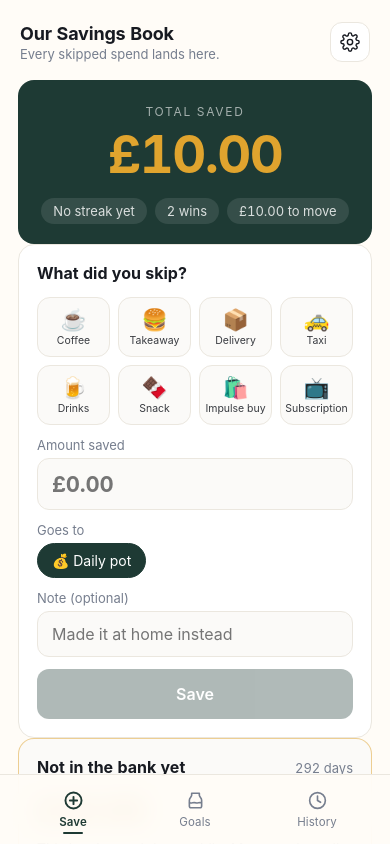
genel kavanoz › hedefe bağlanmamış kayıtları toplar
This screenshot has width=390, height=844.
What coordinates should you click on to do the following:
click the button "Goals"
I would click on:
 (195, 808)
Its box is [134,781,256,834].
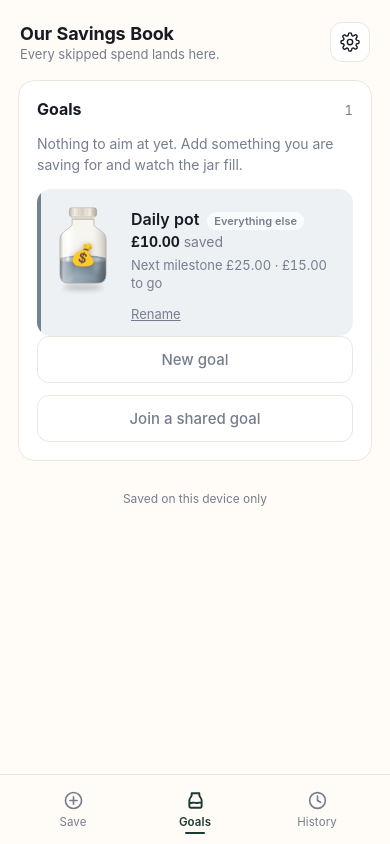
Check: the text "Daily pot" is shown, box [131,209,199,229]
Check: the text "Next milestone £25.00 · £15.00 to go" is shown, box [131,256,339,292]
